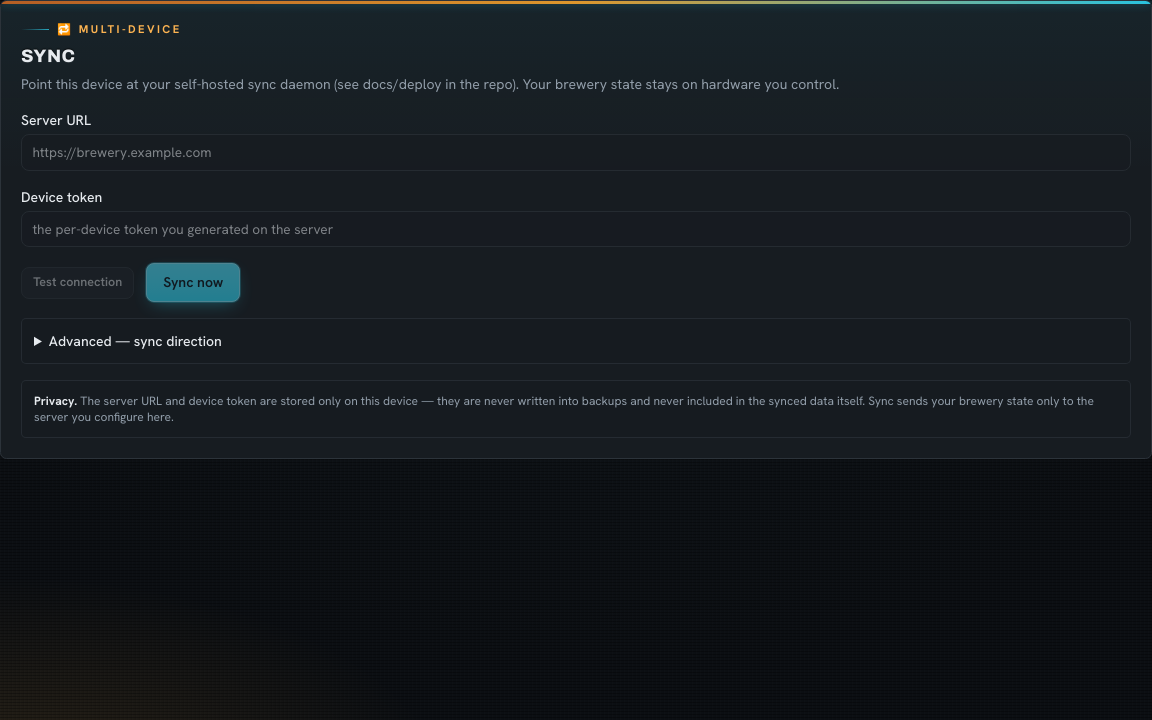
it: SyncSection (Settings → Sync) › Test connection: explicit version-mismatch message when the daemon is older
This screenshot has width=1152, height=720.
Type "https://old.example.com" into the field named "Sync server URL" at [576, 152], box [21,134,1131,171]
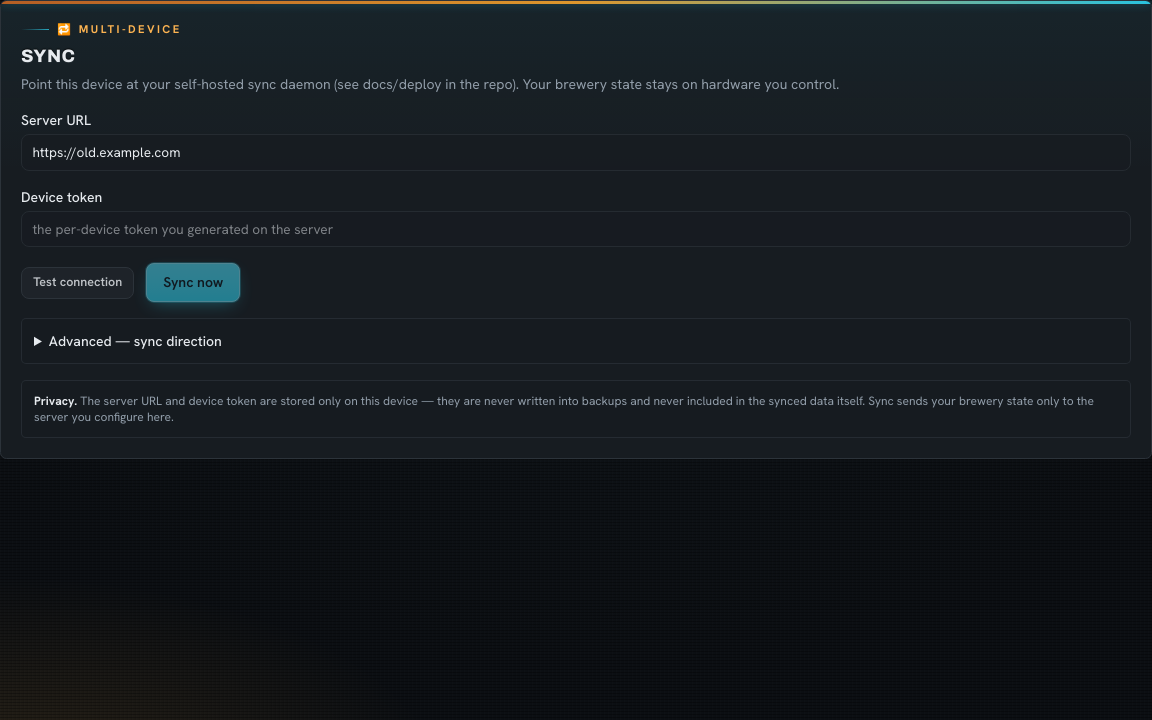
Click the button "Test connection" at [78, 283], box [21,267,134,299]
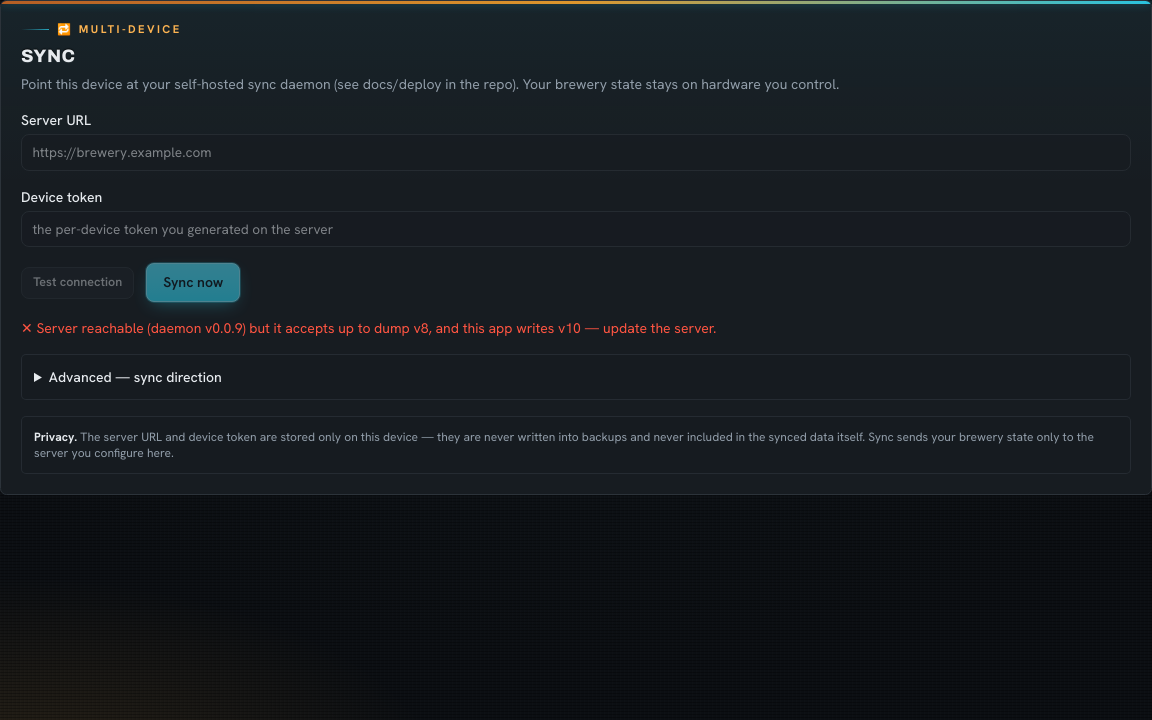
Now the text with test id "sync-test-error" shows "accepts up to dump v8", box [36,319,716,337]
Now the text with test id "sync-test-error" shows "update the server", box [36,319,716,337]
